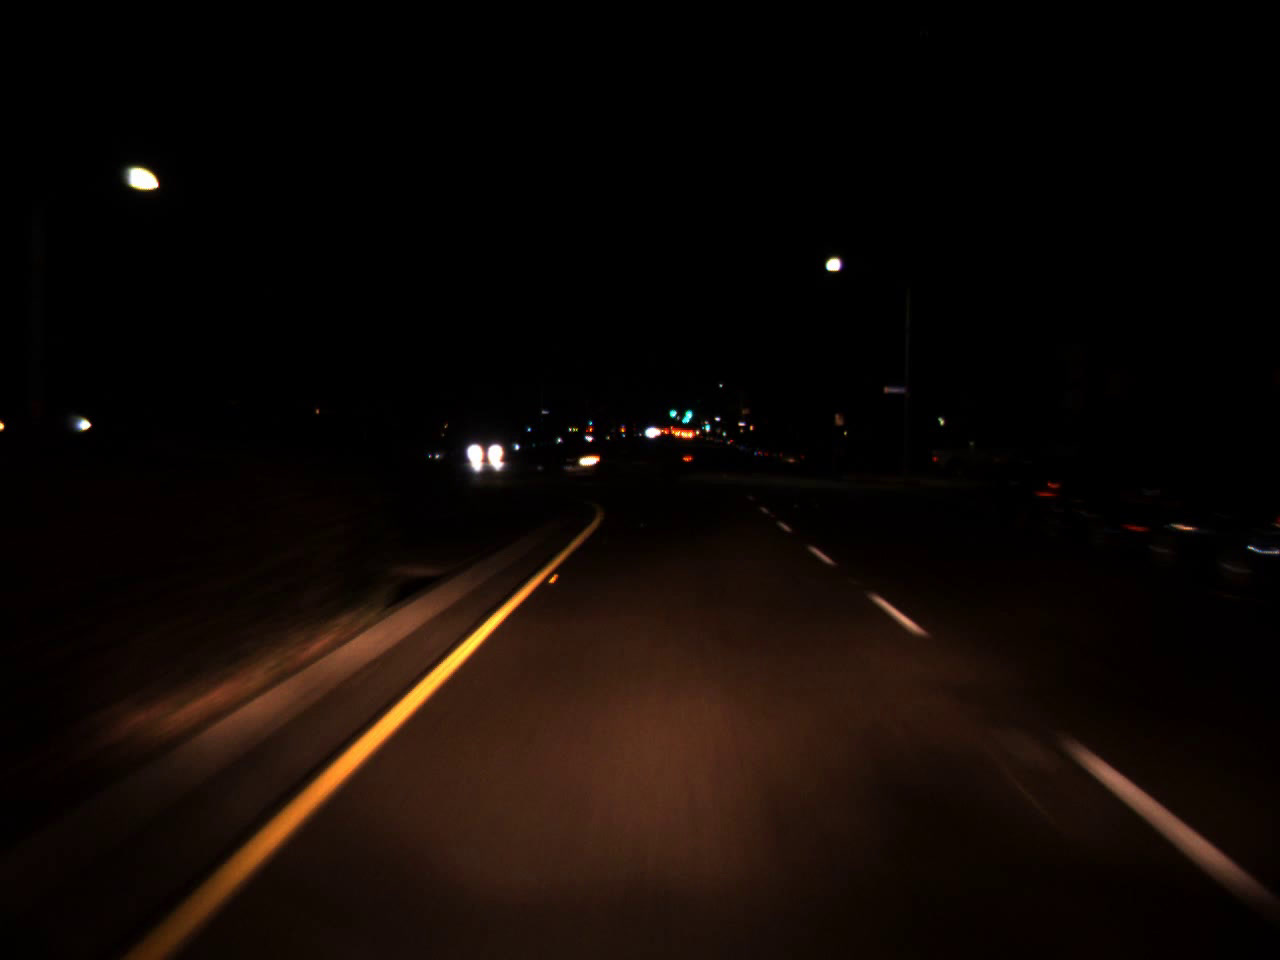go: (678, 398, 694, 425), (668, 403, 675, 418), (586, 415, 593, 427), (703, 419, 710, 432)
